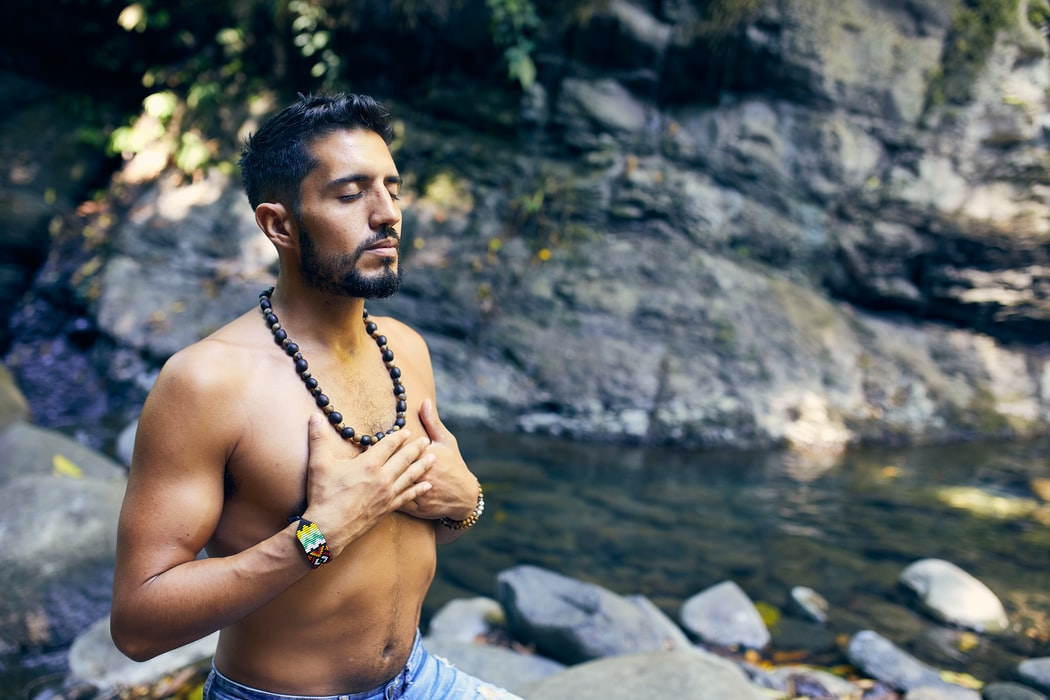beard: (292, 228, 413, 307)
